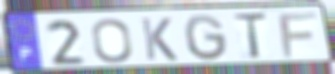2: (43, 19, 89, 68)
F: (276, 11, 320, 60)
G: (182, 13, 230, 63)
K: (139, 16, 180, 62)
O: (90, 17, 135, 65)
T: (230, 11, 270, 61)
